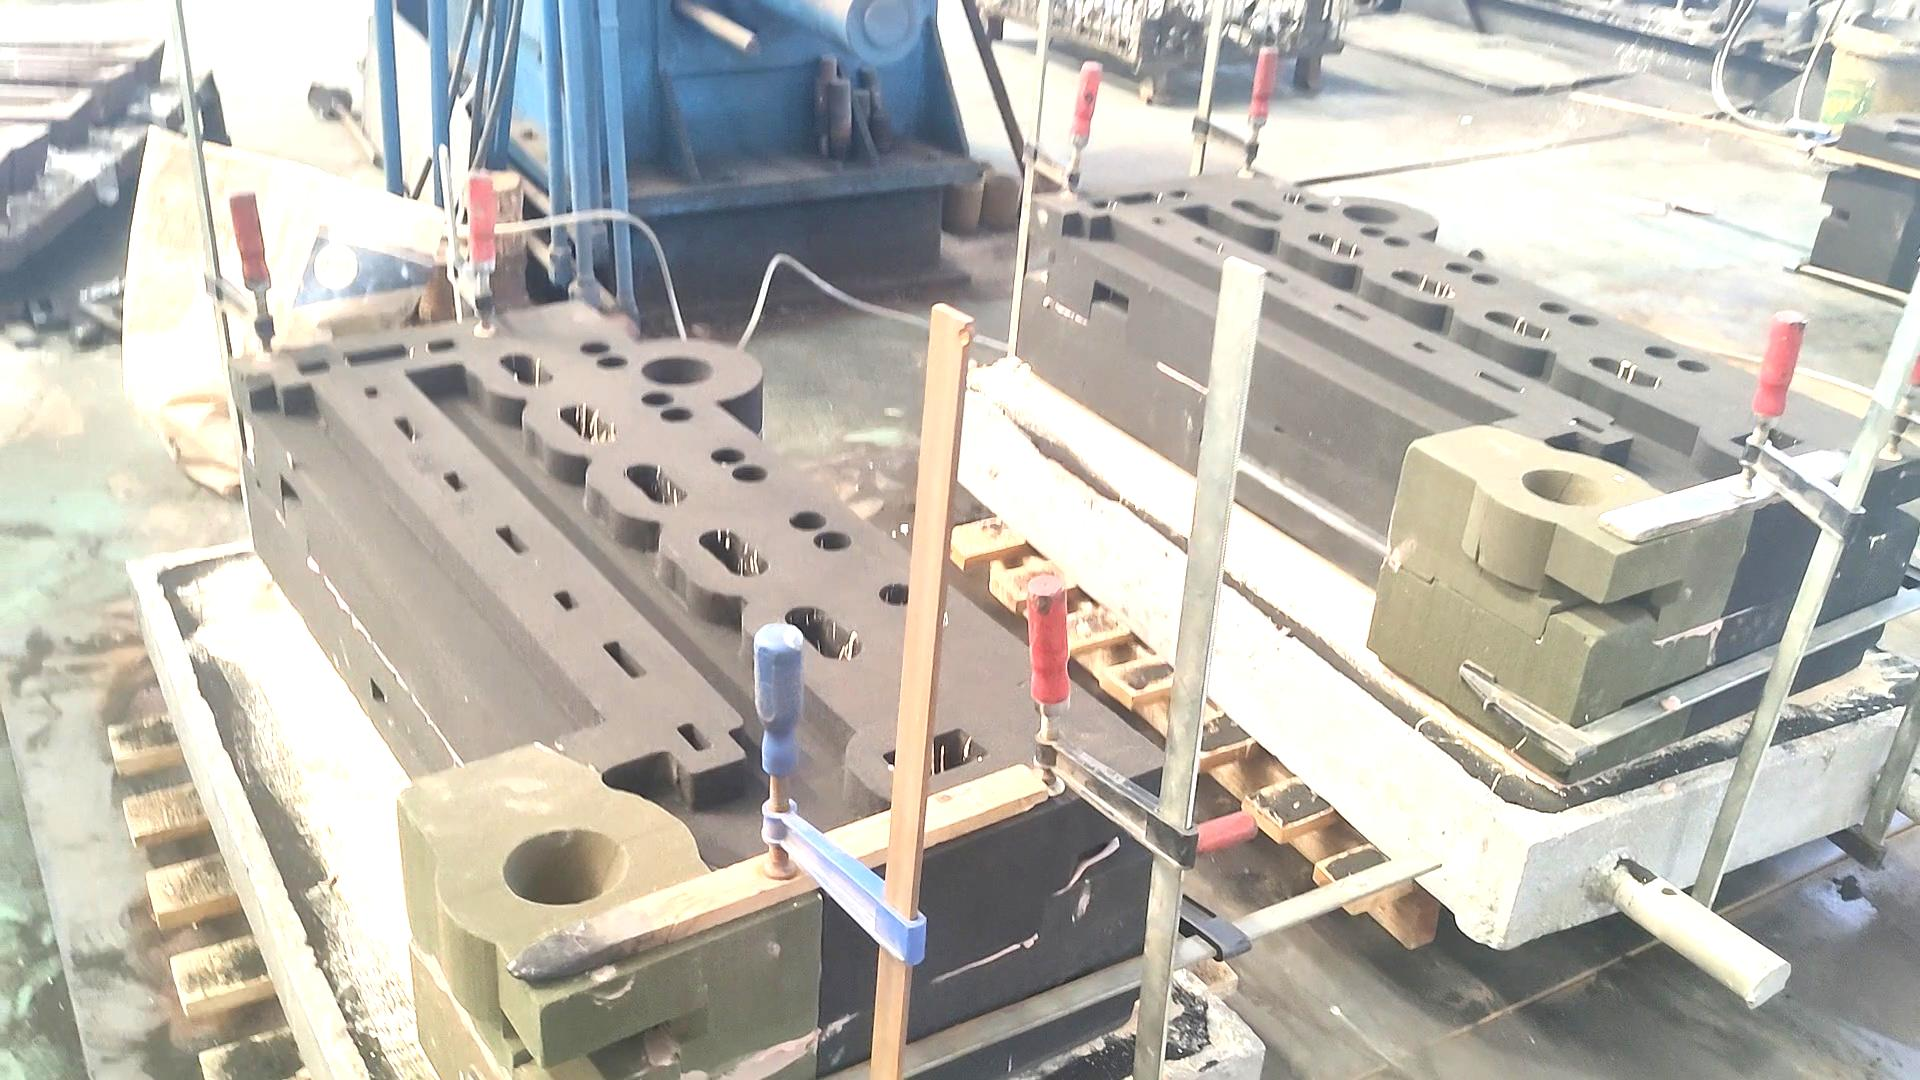pouring hole: (501, 828, 628, 905), (1520, 465, 1610, 508), (640, 353, 713, 386), (1340, 203, 1402, 228), (945, 171, 986, 189), (986, 175, 1021, 190), (965, 158, 992, 170)
